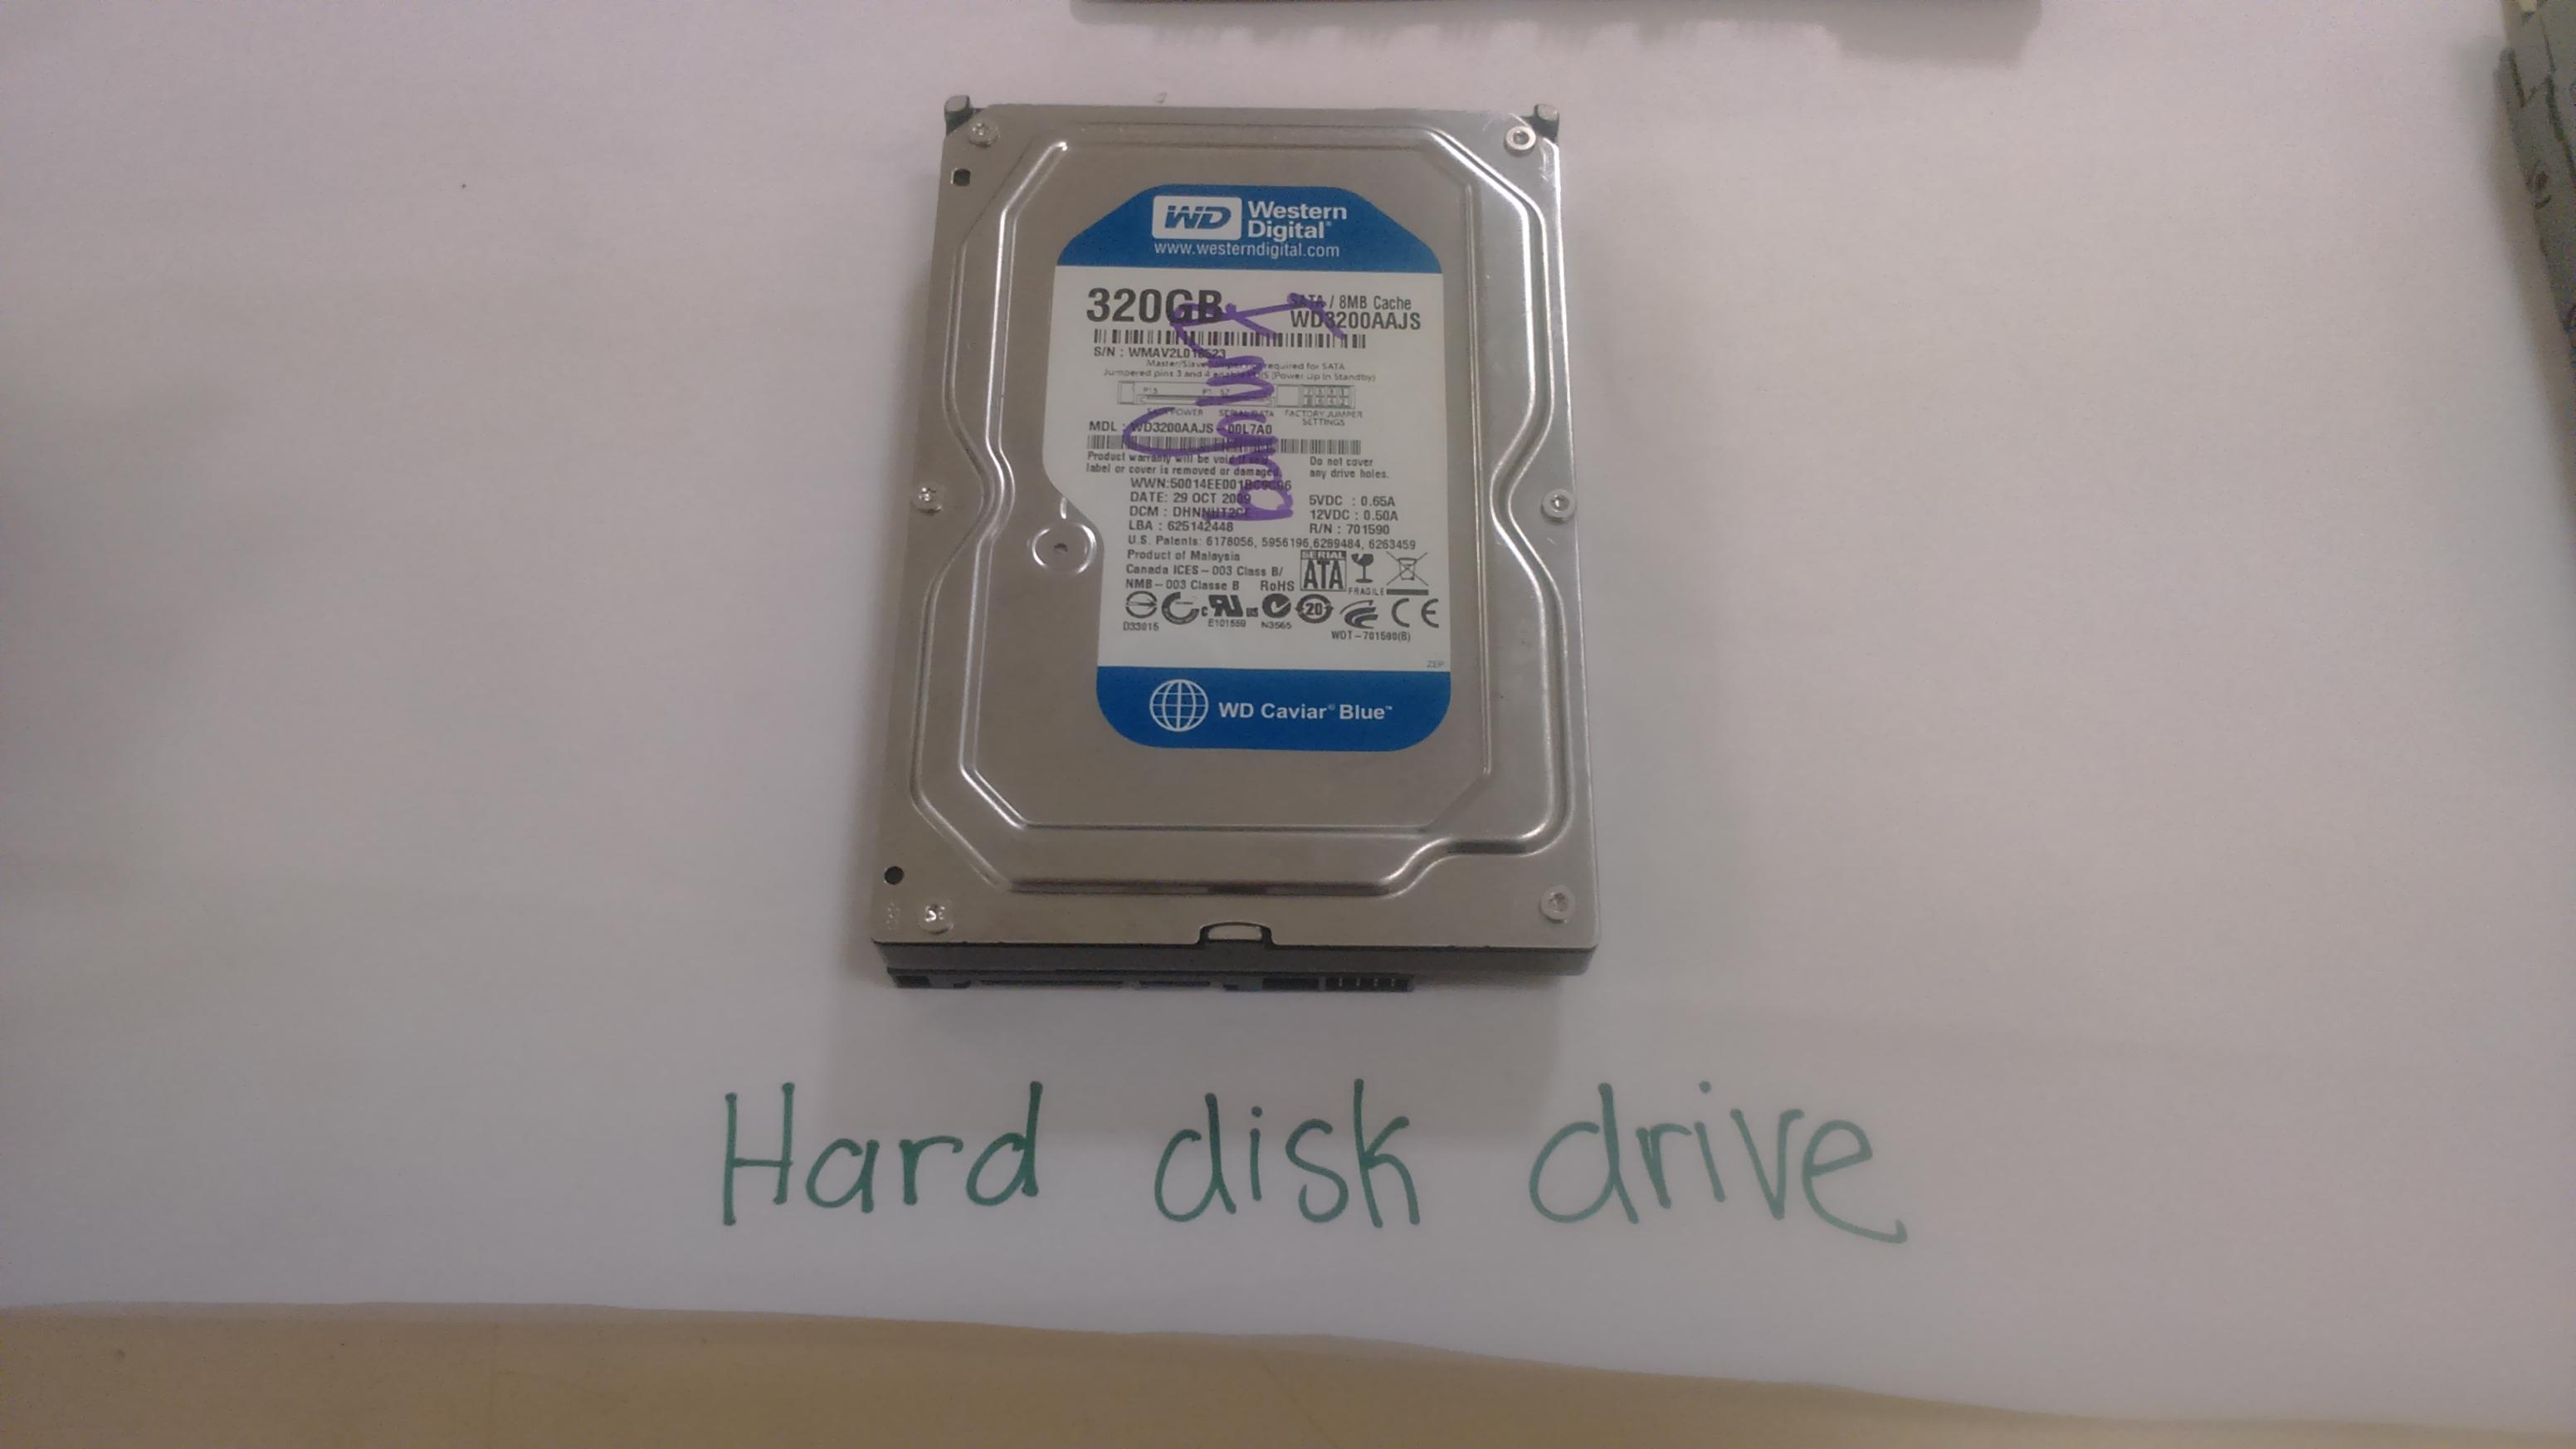internal HDD: (860, 103, 1603, 1001)
